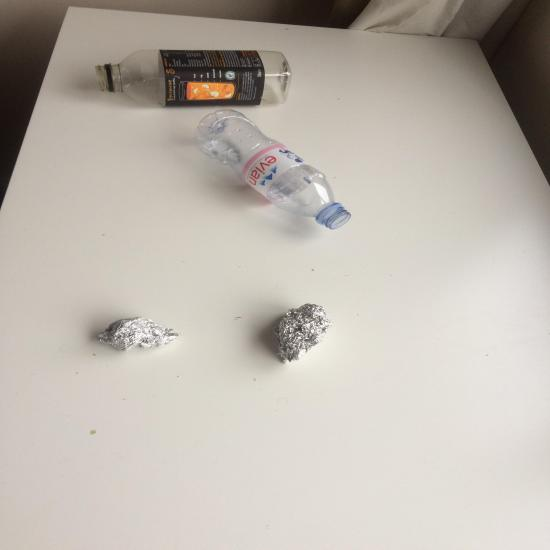Aluminium foil: (273, 303, 334, 363), (98, 317, 180, 352)
Clear plastic bottle: (194, 109, 351, 229), (96, 50, 292, 106)
